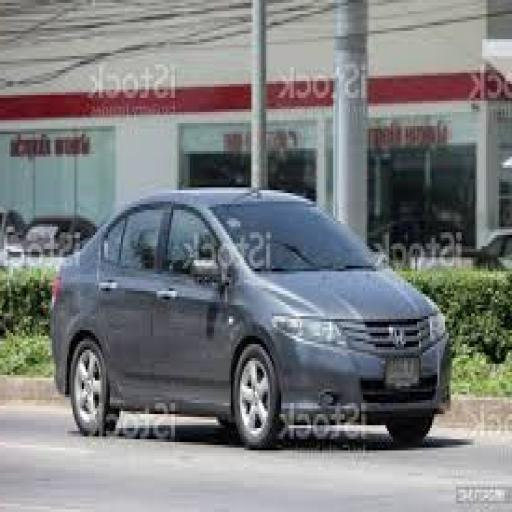License: (376, 352, 429, 388)
